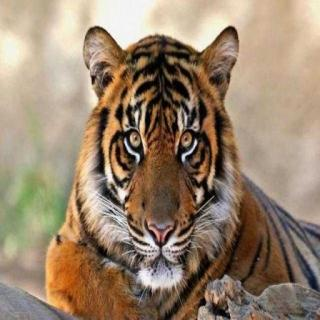Tiger: (32, 11, 320, 302)
